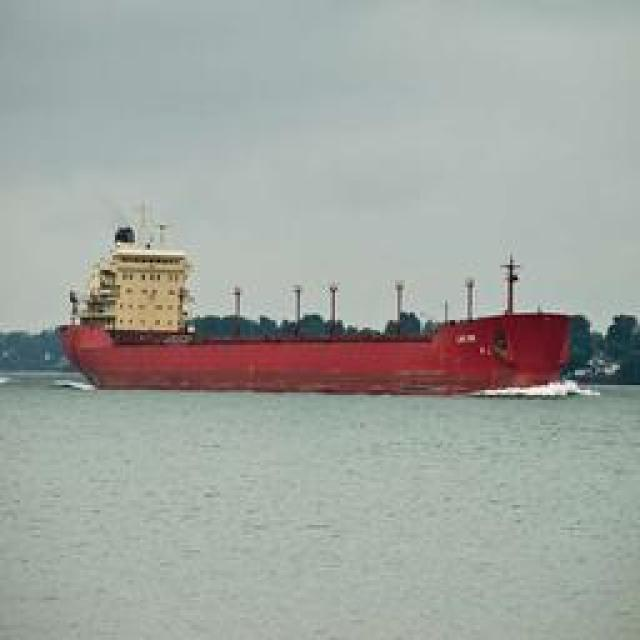CIV_Ship: (58, 222, 590, 396)
